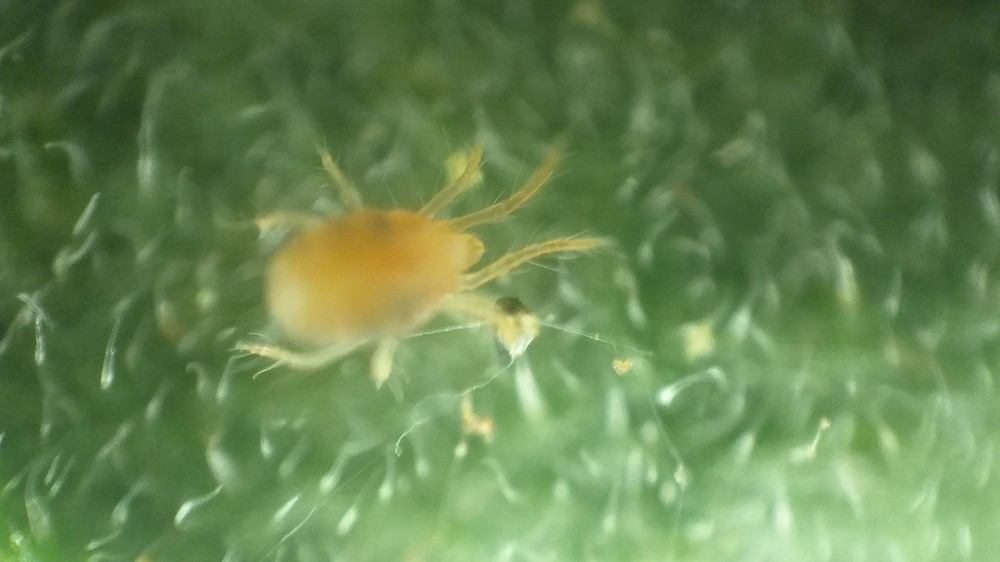Aracnido Rojo: (189, 123, 665, 399)
